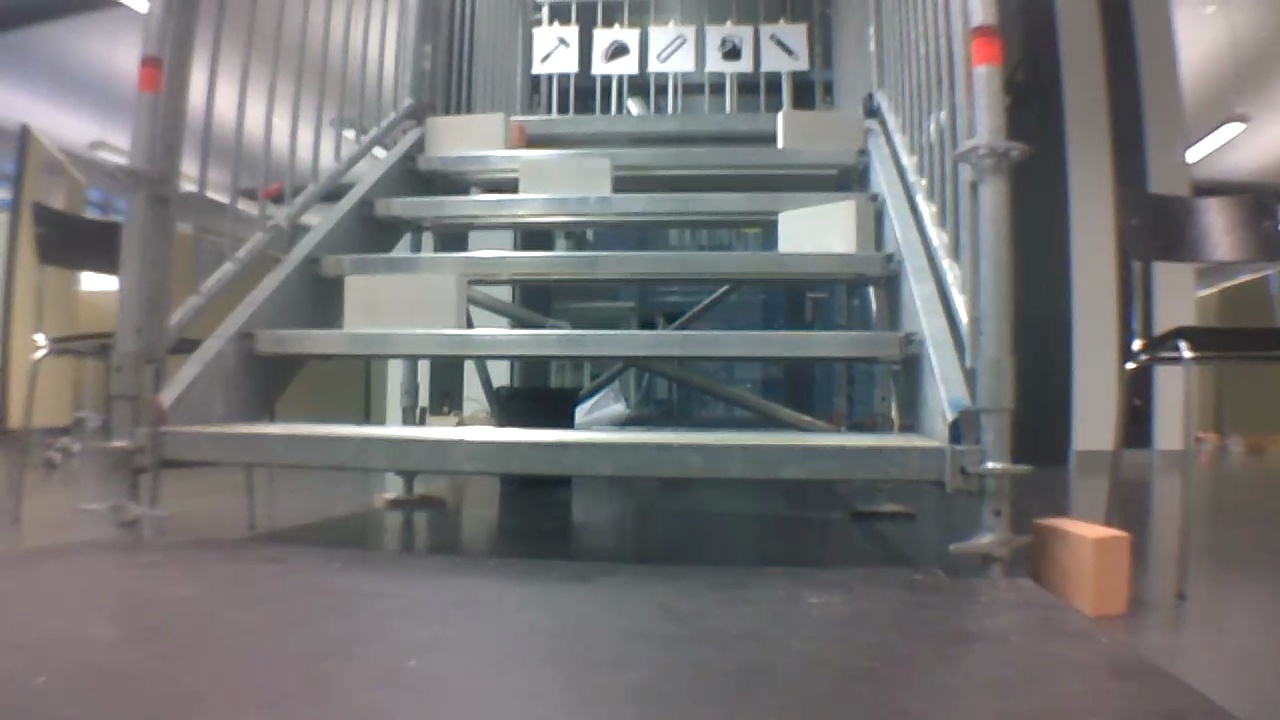brick: (343, 274, 466, 330), (778, 202, 873, 251), (777, 110, 861, 146), (426, 114, 507, 151), (519, 160, 611, 192), (511, 128, 528, 146)
bucket: (715, 29, 748, 66)
edge: (157, 430, 948, 481), (235, 329, 919, 355), (310, 252, 903, 273), (362, 192, 885, 211), (406, 148, 870, 165), (415, 111, 864, 128)
hammer: (537, 34, 574, 65)
pencil: (765, 30, 803, 61)
ruler: (650, 31, 689, 64)
stairs: (119, 5, 1025, 577)
steps: (148, 103, 956, 490)
taco: (596, 34, 637, 70)
